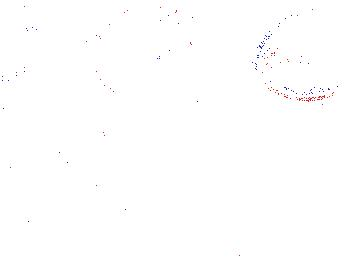moon jellyfish: (94, 2, 191, 97), (255, 4, 346, 101), (1, 9, 39, 80)
